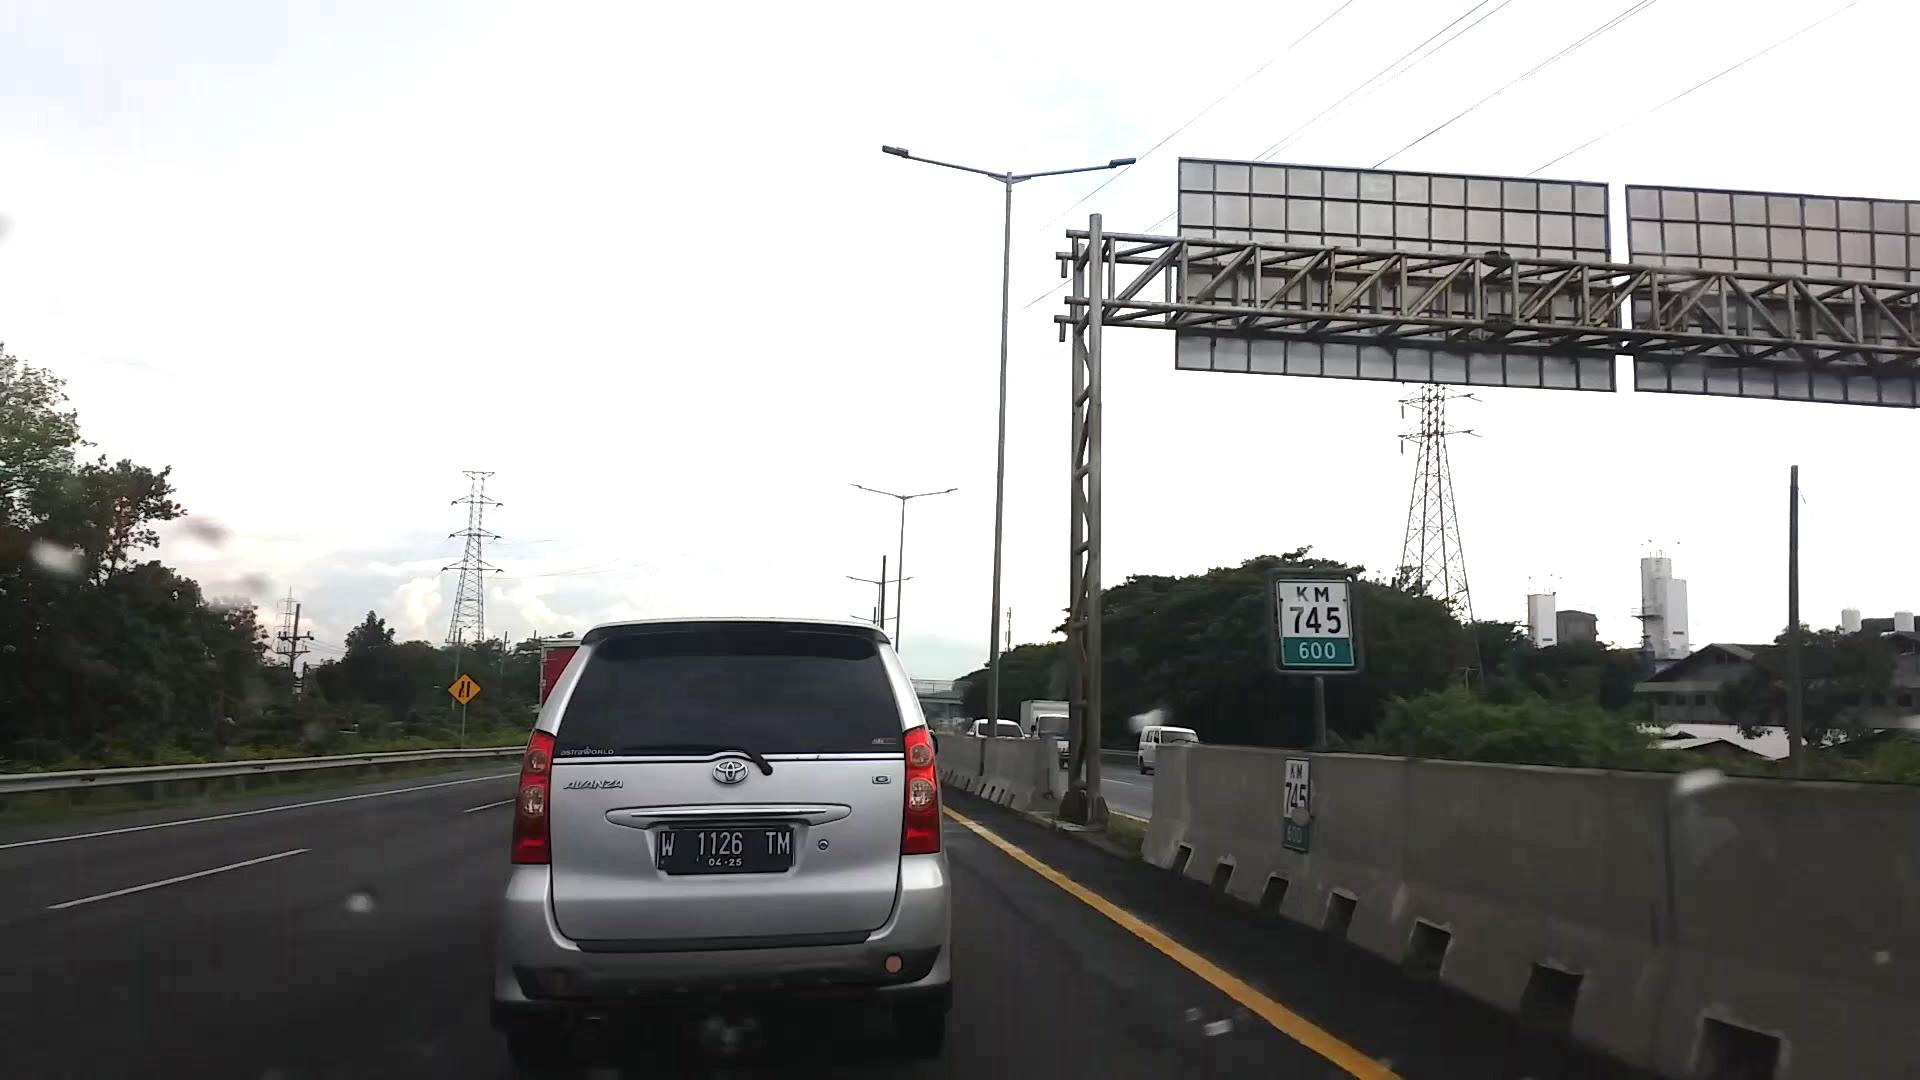plate_positive: (654, 825, 795, 872)
